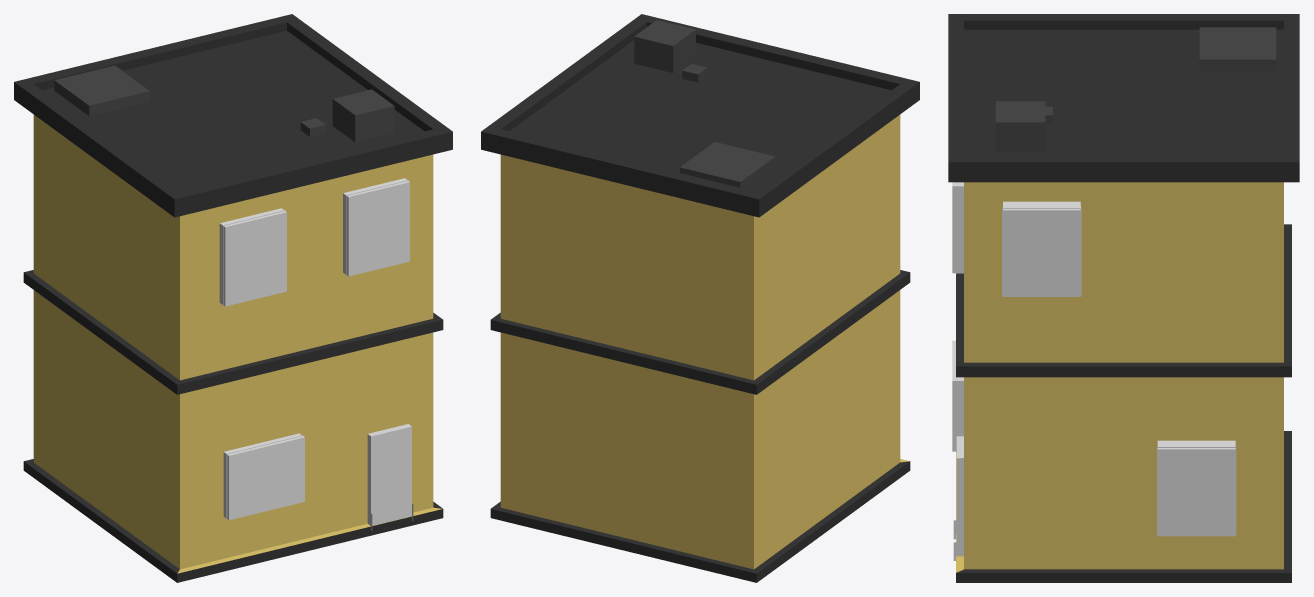
Rendered from Building 2.fbx.
3 renders of one model, left to right at view 1: azimuth 30°, elevation 25°; view 2: azimuth 150°, elevation 25°; view 3: azimuth 270°, elevation 25°, orthographic. The views are drawn at different scales.
Parts seen in each view (by area): view 1: Cube.178, CTRL_Hole.043, CTRL_Hole.042, CTRL_Hole.044, CTRL_Hole.041, Cube.181, Cube.179, WindowFrame.027; view 2: Cube.178, Cube.181, Cube.179; view 3: Cube.178, CTRL_Hole.046, CTRL_Hole.045, Cube.181, Cube.179, WindowFrame.027, CTRL_Hole.044, CTRL_Hole.041, CTRL_Hole.042.
Boxes of the visible parts, x1,y1,x2,y2 form: Cube.178: [14, 14, 452, 582]; CTRL_Hole.043: [219, 211, 286, 306]; CTRL_Hole.042: [224, 433, 304, 520]; CTRL_Hole.044: [343, 181, 409, 276]; CTRL_Hole.041: [367, 425, 411, 525]; Cube.181: [54, 65, 149, 116]; Cube.179: [332, 89, 394, 142]; WindowFrame.027: [220, 178, 409, 519]; Cube.178: [481, 14, 919, 582]; Cube.181: [680, 142, 775, 188]; Cube.179: [634, 20, 695, 72]; Cube.178: [948, 14, 1299, 582]; CTRL_Hole.046: [1157, 440, 1235, 536]; CTRL_Hole.045: [1003, 201, 1080, 296]; Cube.181: [1199, 27, 1276, 71]; Cube.179: [995, 101, 1045, 151]; WindowFrame.027: [956, 182, 1236, 535]; CTRL_Hole.044: [952, 182, 963, 273]; CTRL_Hole.041: [956, 436, 963, 556]; CTRL_Hole.042: [952, 340, 963, 451].
Bounding box in the file's own units: 457 × 629 × 450.
